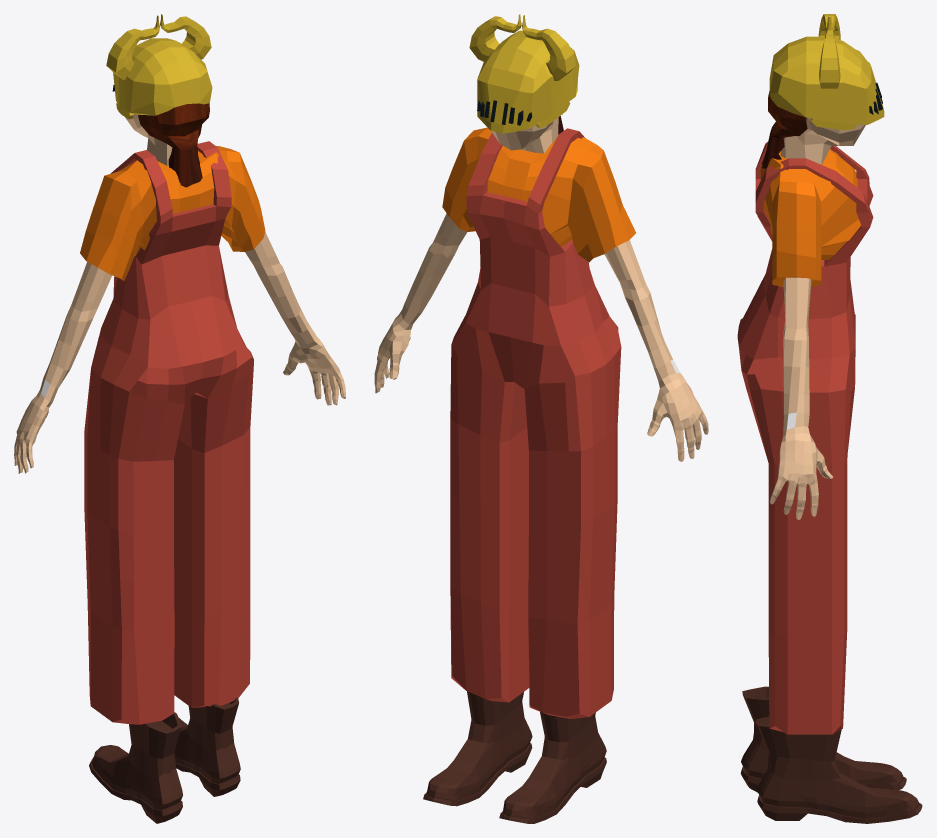
Rendered from CompleteCharacterModel.fbx.
3 renders of one model, left to right at view 1: azimuth 30°, elevation 25°; view 2: azimuth 150°, elevation 25°; view 3: azimuth 270°, elevation 25°, orthographic.
Visible parts, largest first — view 1: Body, Shirt, Cube.087, Helmet, LeftHand, RightHand, Shoes, Hair, Horn, Horn.001, Head; view 2: Body, Shirt, Helmet, Shoes, Cube.087, LeftHand, RightHand, Horn, Head, Horn.001; view 3: Body, Shoes, Shirt, RightHand, Helmet, Cube.087, Head, Hair, Horn.001, Horn.
Part boxes in pixels (left/top/right/bottom): Body: left=84, top=141, right=253, bottom=724; Shirt: left=80, top=146, right=265, bottom=281; Cube.087: left=89, top=712, right=182, bottom=823; Helmet: left=113, top=38, right=212, bottom=115; LeftHand: left=14, top=262, right=112, bottom=473; RightHand: left=245, top=232, right=345, bottom=405; Shoes: left=174, top=697, right=240, bottom=796; Hair: left=138, top=103, right=209, bottom=187; Horn: left=106, top=15, right=159, bottom=80; Horn.001: left=160, top=14, right=211, bottom=59; Head: left=125, top=114, right=172, bottom=165; Body: left=450, top=128, right=621, bottom=718; Shirt: left=442, top=127, right=635, bottom=262; Helmet: left=477, top=30, right=579, bottom=133; Shoes: left=423, top=691, right=532, bottom=806; Cube.087: left=499, top=712, right=606, bottom=823; LeftHand: left=604, top=240, right=708, bottom=461; RightHand: left=374, top=213, right=467, bottom=393; Horn: left=522, top=15, right=575, bottom=80; Head: left=491, top=117, right=558, bottom=153; Horn.001: left=469, top=14, right=521, bottom=61; Body: left=737, top=141, right=873, bottom=734; Shoes: left=755, top=716, right=922, bottom=823; Shirt: left=760, top=149, right=861, bottom=286; RightHand: left=770, top=277, right=832, bottom=519; Helmet: left=769, top=36, right=884, bottom=124; Cube.087: left=740, top=686, right=906, bottom=792; Head: left=780, top=117, right=865, bottom=164; Hair: left=762, top=91, right=807, bottom=168; Horn.001: left=819, top=19, right=840, bottom=88; Horn: left=818, top=14, right=840, bottom=40.
Bounding box in the file's own units: 1.78 × 0.8868 × 4.17.
